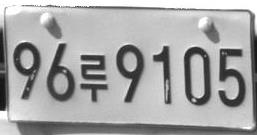0: (182, 46, 211, 106)
1: (150, 45, 178, 104)
5: (217, 47, 246, 107)
6: (45, 42, 75, 102)
9: (12, 41, 42, 100), (114, 43, 144, 102)
루: (79, 53, 108, 102)
